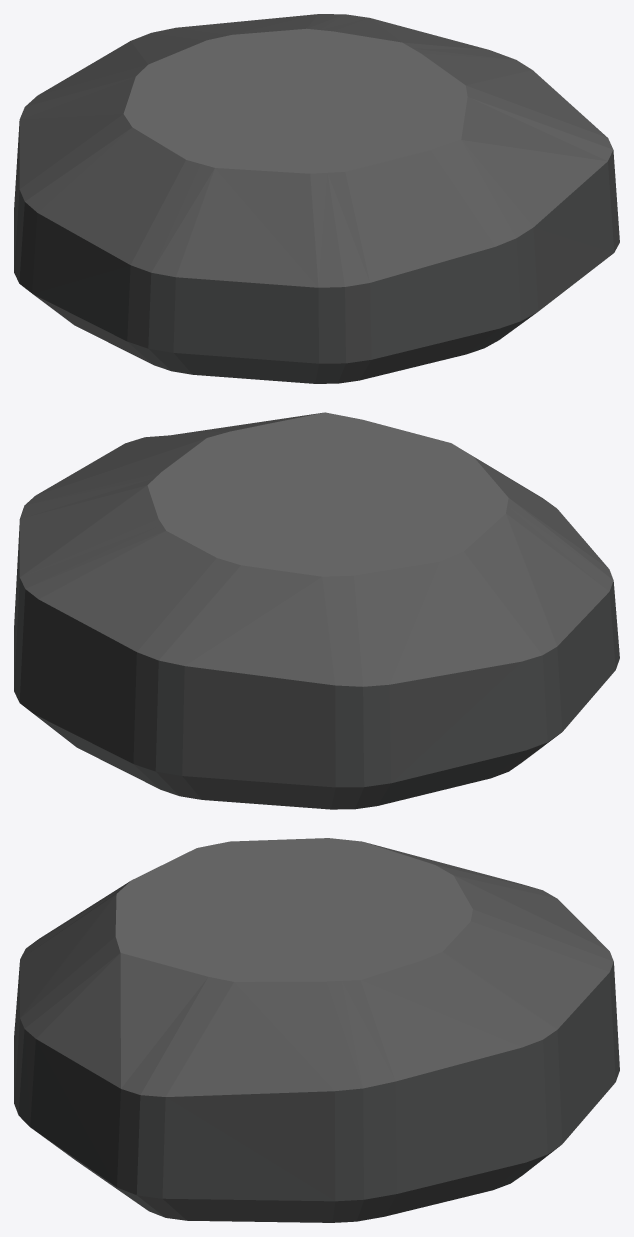
The model's file is stone_deposit_icon.fbx.
3 views of the same model, one above another, from view 1: azimuth 30°, elevation 25°; view 2: azimuth 150°, elevation 25°; view 3: azimuth 270°, elevation 25° (orthographic). The views are drawn at different scales.
Visible parts, largest first — view 1: stone_deposit_icon_body; view 2: stone_deposit_icon_body; view 3: stone_deposit_icon_body.
Boxes of the visible parts, left/top/right/bottom form: stone_deposit_icon_body: left=14, top=14, right=619, bottom=383; stone_deposit_icon_body: left=14, top=412, right=619, bottom=809; stone_deposit_icon_body: left=14, top=838, right=619, bottom=1222.
Size of the model in its own units: 4 by 1.44 by 3.94.
Materials: 1 (1 with a texture image).
